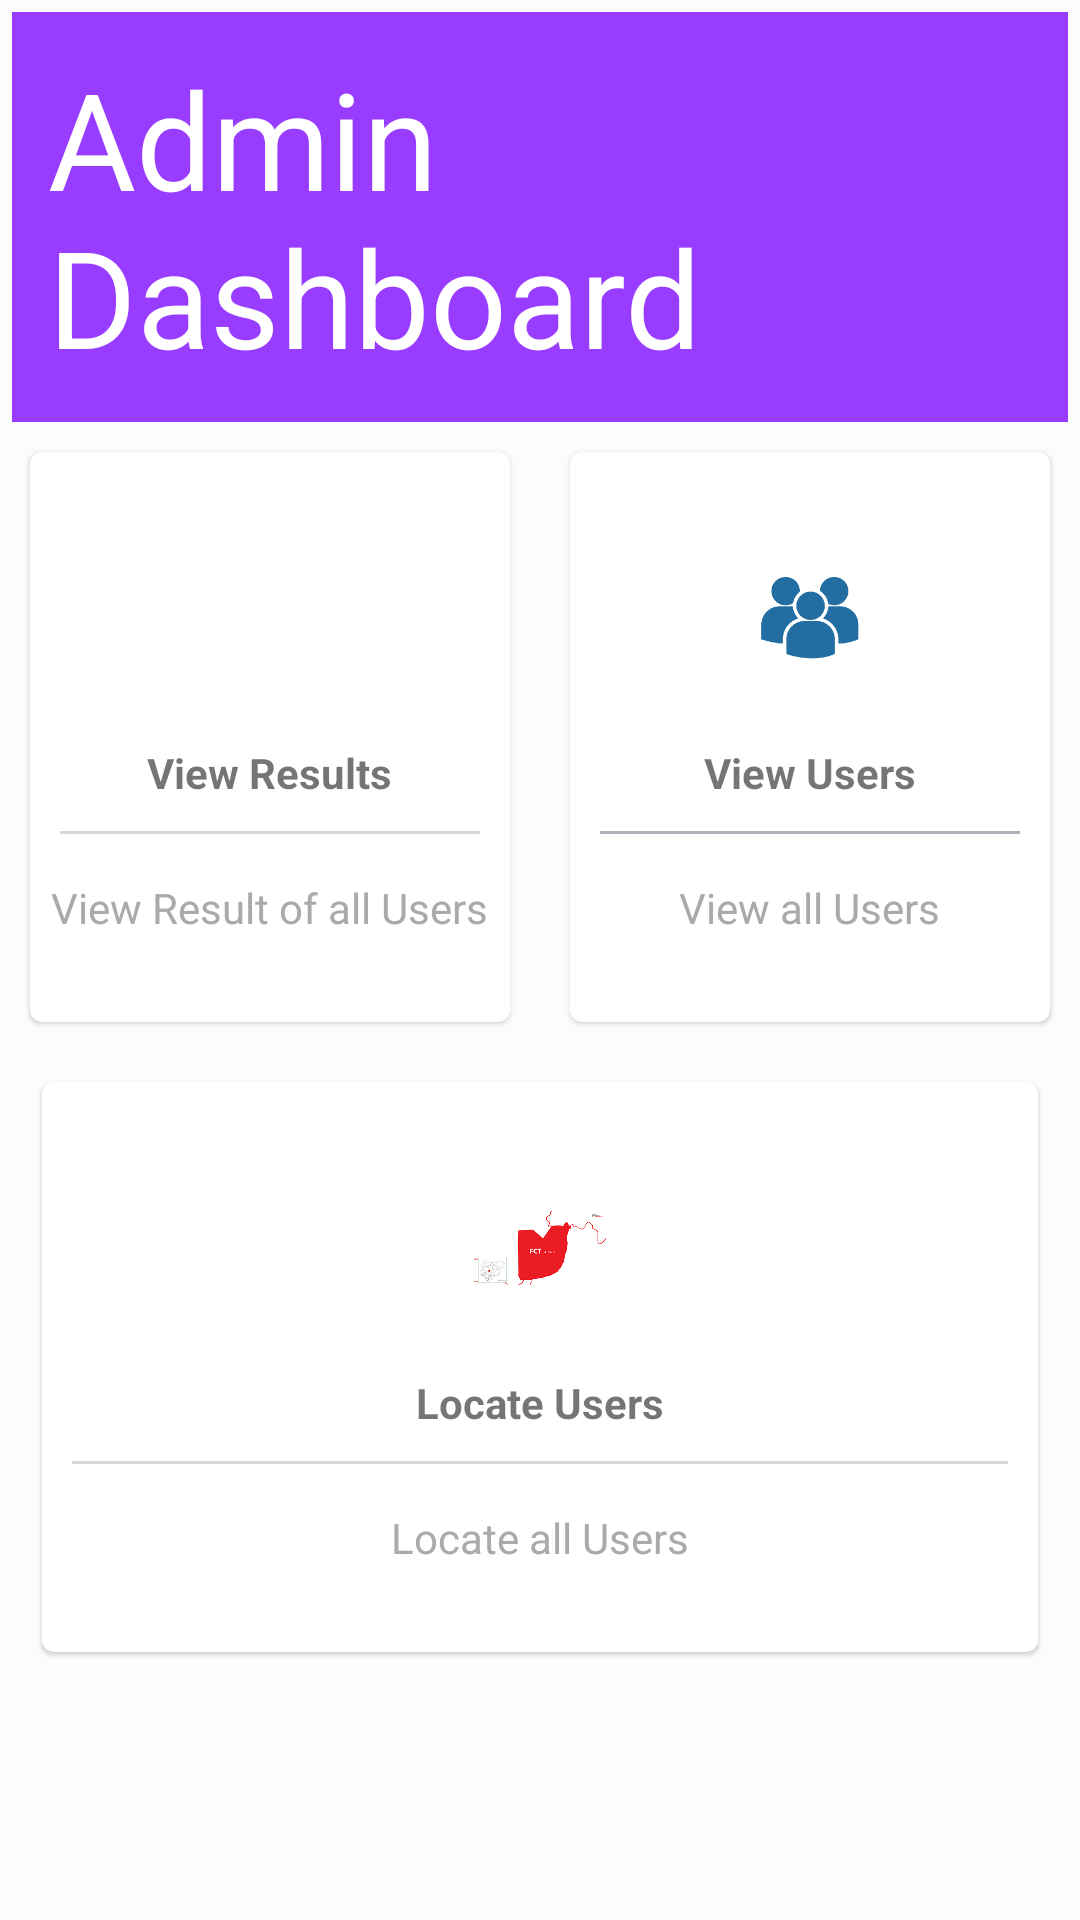

Point at icon controls on the screen. Image size 1080w x 1920h, points as (x=x, y=y).
userslist: (x=810, y=618)
